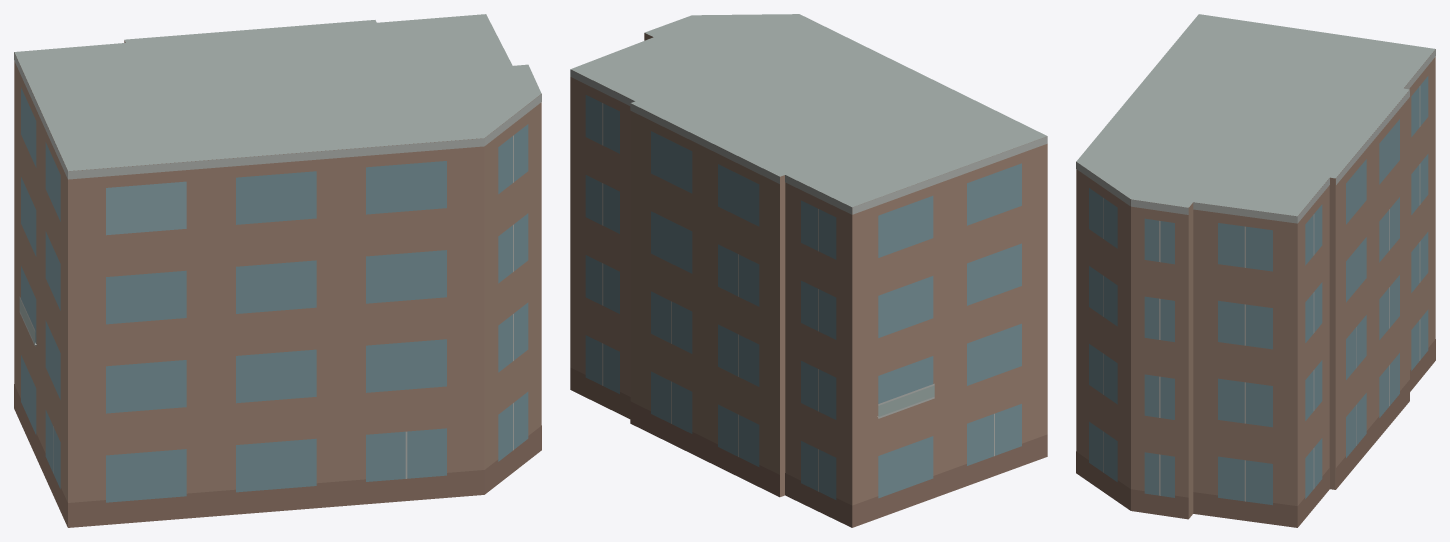
File: survey-upis-33007540.glb
3 renders of one model, left to right at view 1: azimuth 30°, elevation 25°; view 2: azimuth 150°, elevation 25°; view 3: azimuth 270°, elevation 25°, orthographic. The views are drawn at different scales.
Visible parts, largest first — view 1: survey-upis-33007540.tmp; view 2: survey-upis-33007540.tmp; view 3: survey-upis-33007540.tmp.
Boxes of the visible parts, x1=… form: survey-upis-33007540.tmp: x1=14, y1=14, x2=541, y2=527; survey-upis-33007540.tmp: x1=570, y1=14, x2=1047, y2=527; survey-upis-33007540.tmp: x1=1076, y1=14, x2=1435, y2=527.
Size of the model in its own units: 14.56 by 10.45 by 10.94.
